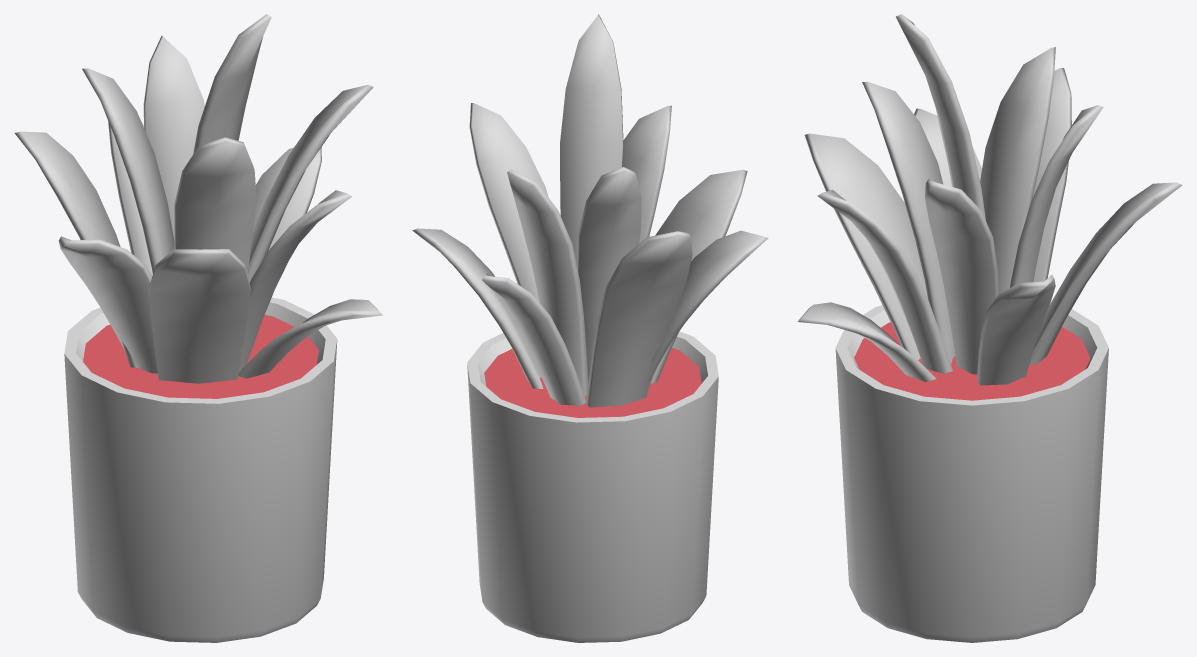
The model's file is env-2.fbx.
3 renders of one model, left to right at view 1: azimuth 30°, elevation 25°; view 2: azimuth 150°, elevation 25°; view 3: azimuth 270°, elevation 25°, orthographic. The views are drawn at different scales.
Visible parts, largest first — view 1: Cylinder.011, Cube.023, Cube.020, Cube.022, Cube.021, leaf.001, Cube.019, Cube.018, leaf, Cube.017, Cube.025, Cube.016 (+1 smaller); view 2: Cylinder.011, Cube.018, leaf, Cube.021, leaf.001, Cube.019, Cube.024, Cube.023, Cube.022, Cube.020, Cube.016; view 3: Cylinder.011, leaf.001, Cube.019, Cube.023, Cube.020, Cube.016, Cube.017, Cube.024, leaf, Cube.021, Cube.018, Cube.025 (+1 smaller).
Boxes of the visible parts, x1=… form: Cylinder.011: x1=64, y1=297, x2=337, y2=642; Cube.023: x1=149, y1=249, x2=250, y2=383; Cube.020: x1=174, y1=137, x2=256, y2=274; Cube.022: x1=58, y1=236, x2=157, y2=373; Cube.021: x1=143, y1=36, x2=204, y2=238; leaf.001: x1=82, y1=68, x2=174, y2=273; Cube.019: x1=247, y1=84, x2=373, y2=282; Cube.018: x1=14, y1=131, x2=137, y2=367; leaf: x1=193, y1=14, x2=271, y2=153; Cube.017: x1=239, y1=190, x2=352, y2=371; Cube.025: x1=238, y1=299, x2=382, y2=378; Cube.016: x1=253, y1=147, x2=321, y2=250; Cylinder.011: x1=467, y1=331, x2=718, y2=642; Cube.018: x1=586, y1=231, x2=692, y2=407; leaf: x1=560, y1=14, x2=623, y2=265; Cube.021: x1=507, y1=169, x2=588, y2=396; leaf.001: x1=577, y1=167, x2=641, y2=382; Cube.019: x1=469, y1=103, x2=548, y2=302; Cube.024: x1=482, y1=273, x2=586, y2=405; Cube.023: x1=650, y1=169, x2=747, y2=383; Cube.022: x1=646, y1=230, x2=768, y2=386; Cube.020: x1=622, y1=105, x2=671, y2=243; Cube.016: x1=412, y1=228, x2=543, y2=388; Cylinder.011: x1=835, y1=302, x2=1108, y2=642; leaf.001: x1=980, y1=47, x2=1055, y2=294; Cube.019: x1=925, y1=179, x2=999, y2=374; Cube.023: x1=804, y1=133, x2=928, y2=360; Cube.020: x1=862, y1=81, x2=955, y2=363; Cube.016: x1=976, y1=274, x2=1055, y2=385; Cube.017: x1=817, y1=190, x2=952, y2=373; Cube.024: x1=1029, y1=182, x2=1182, y2=364; leaf: x1=896, y1=14, x2=985, y2=220; Cube.021: x1=1010, y1=105, x2=1103, y2=287; Cube.018: x1=1033, y1=68, x2=1071, y2=281; Cube.025: x1=797, y1=302, x2=936, y2=381.
Bounding box in the file's own units: 1.95 × 3.49 × 2.04.
